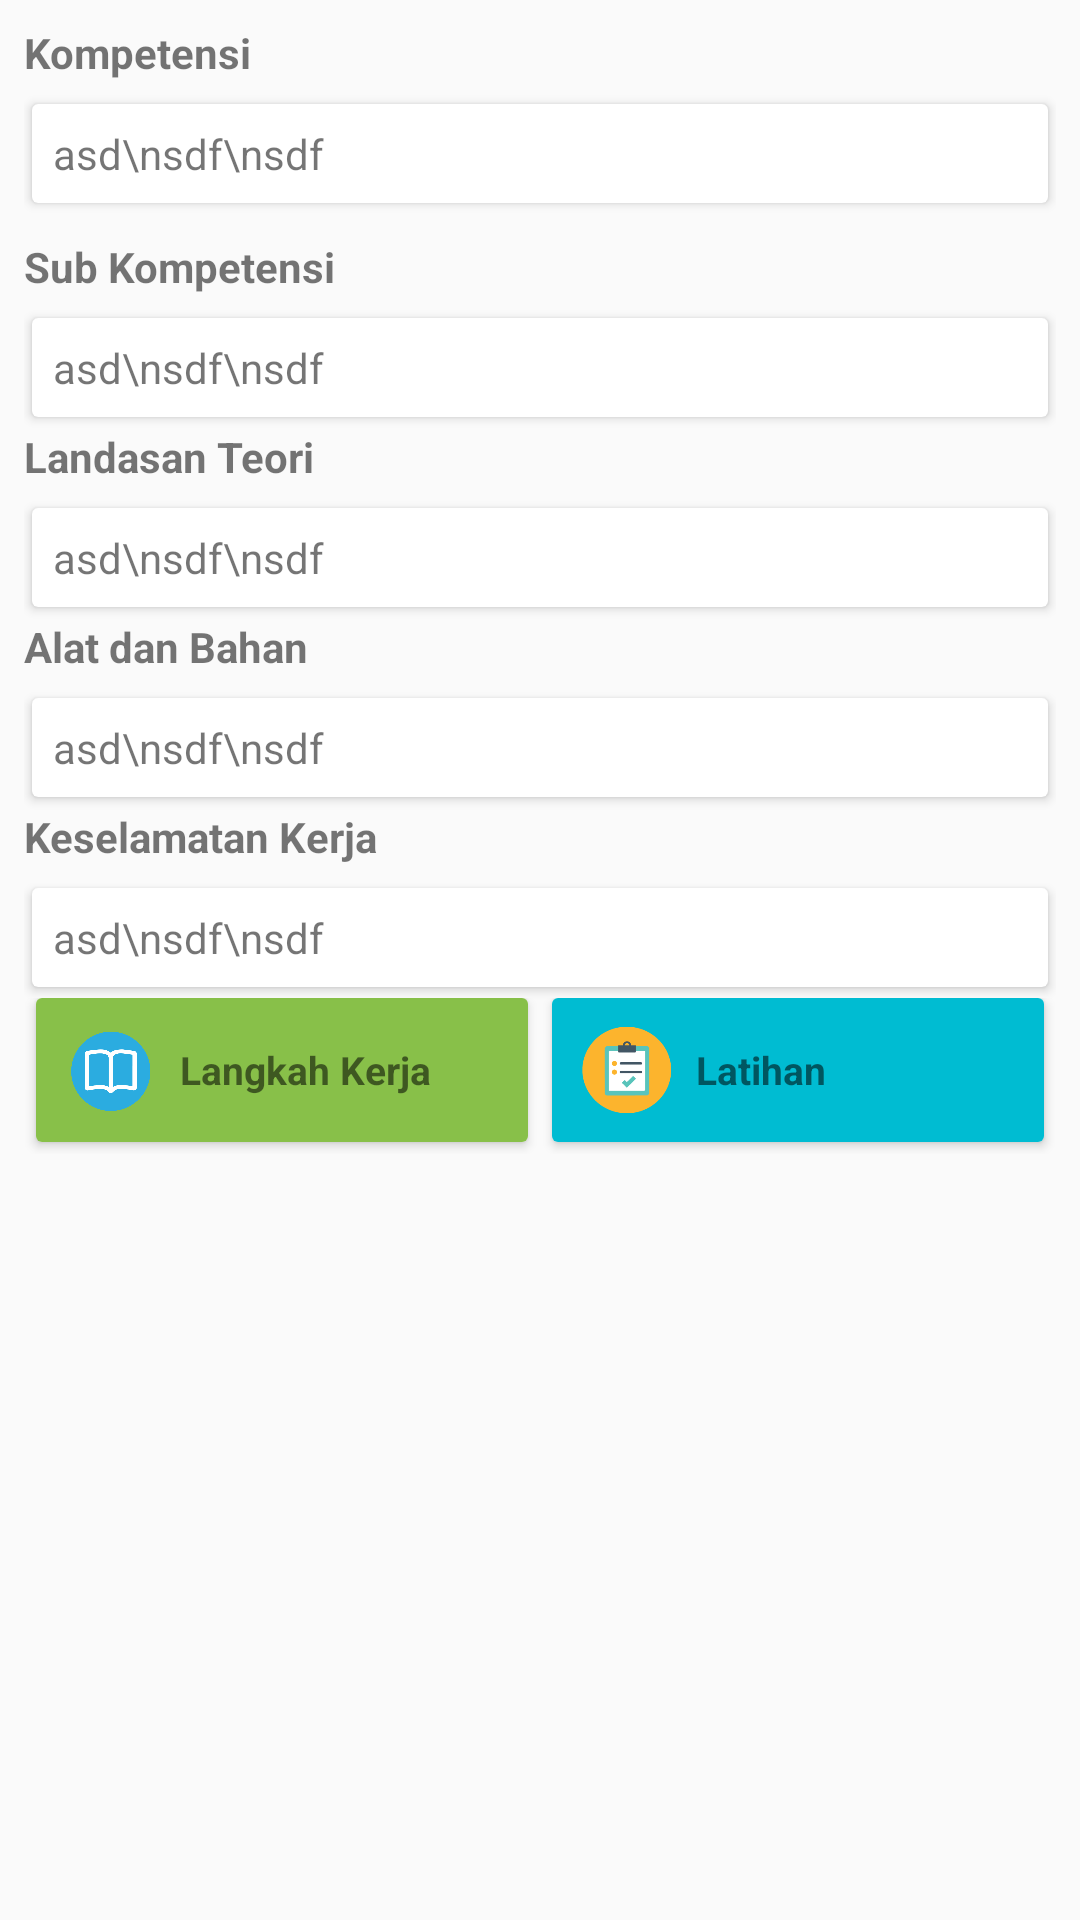

Screen size 1080 × 1920. Icon name, then its center in pixels as [x,y]:
jobsheet: [626,1070]
materi: [110,1071]
